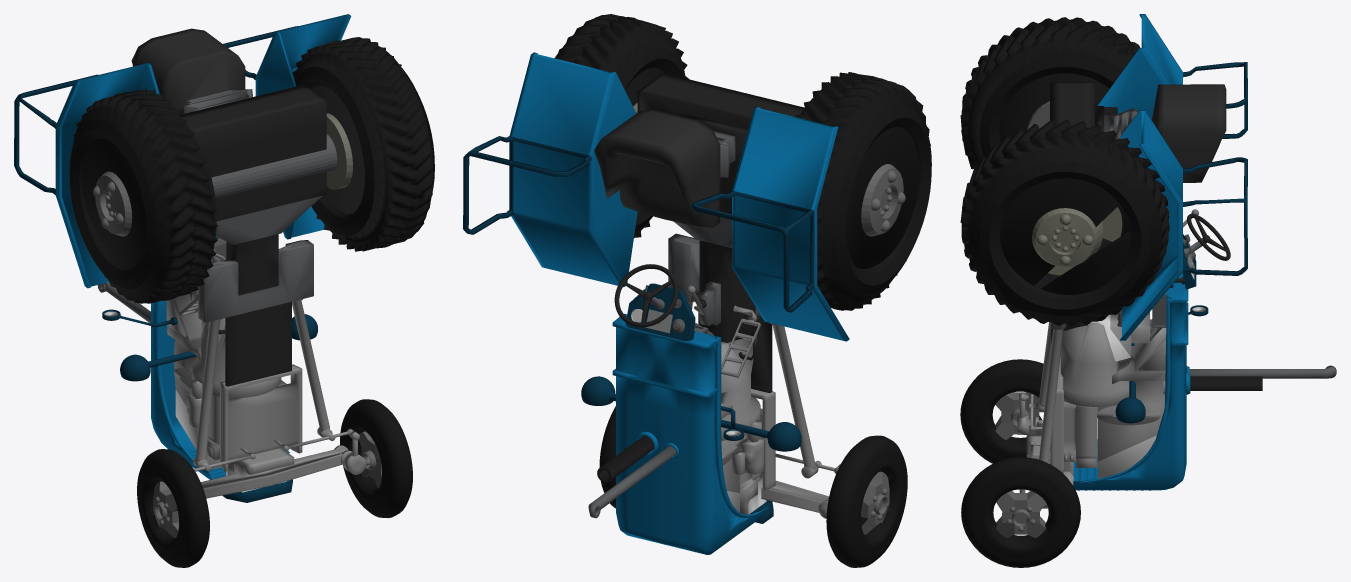
The model's file is tractor5.fbx.
3 views of the same model, side by side, from view 1: azimuth 30°, elevation 25°; view 2: azimuth 150°, elevation 25°; view 3: azimuth 270°, elevation 25° (orthographic). The views are drawn at different scales.
Parts seen in each view (by area): view 1: Model, RB_wheel, LB_wheel, RF_wheel, LF_wheel; view 2: Model, RB_wheel, RF_wheel, LB_wheel, steering_wheel, Pedal, LF_wheel; view 3: Model, LB_wheel, RB_wheel, LF_wheel, RF_wheel, steering_wheel.
Part boxes in pixels (x1,y1,x2,y2): Model: (14, 14, 369, 502); RB_wheel: (69, 89, 217, 303); LB_wheel: (292, 37, 434, 251); RF_wheel: (137, 449, 209, 567); LF_wheel: (340, 399, 412, 517); Model: (463, 52, 849, 554); RB_wheel: (795, 72, 931, 310); RF_wheel: (826, 435, 907, 567); LB_wheel: (554, 14, 689, 237); steering_wheel: (614, 264, 678, 327); Pedal: (721, 305, 760, 377); LF_wheel: (599, 406, 615, 508); Model: (1017, 14, 1336, 510); LB_wheel: (960, 119, 1169, 326); RB_wheel: (960, 17, 1139, 169); LF_wheel: (961, 457, 1080, 567); RF_wheel: (960, 359, 1043, 463); steering_wheel: (1187, 213, 1230, 260).
Size of the model in its own units: 887 by 1289 by 996.
